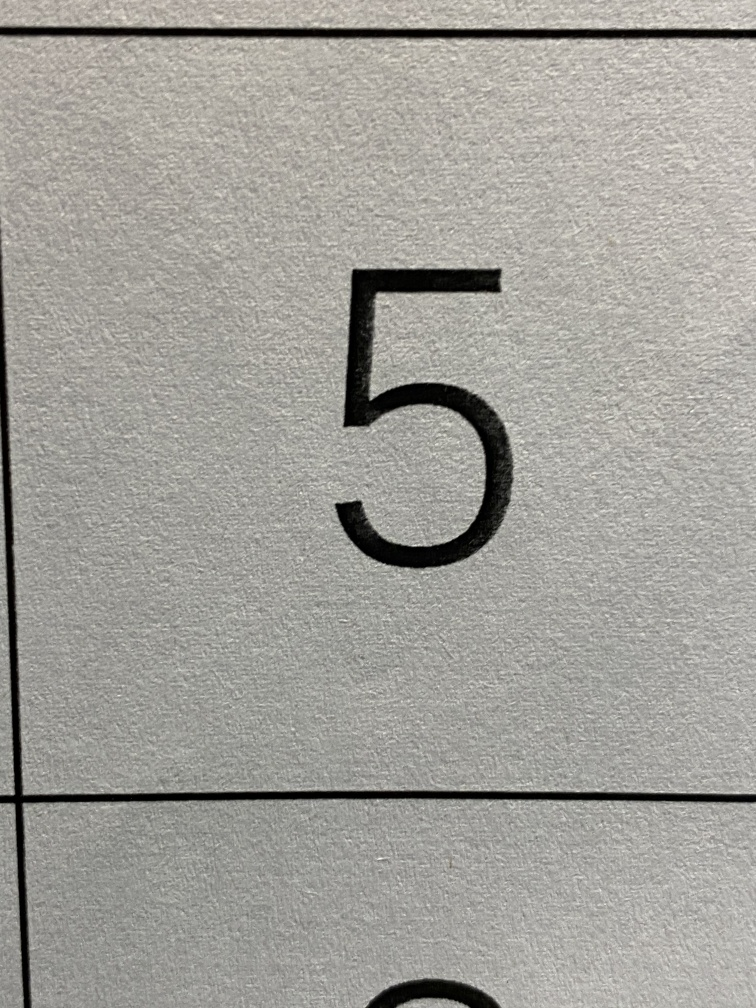five: (266, 190, 582, 644)
